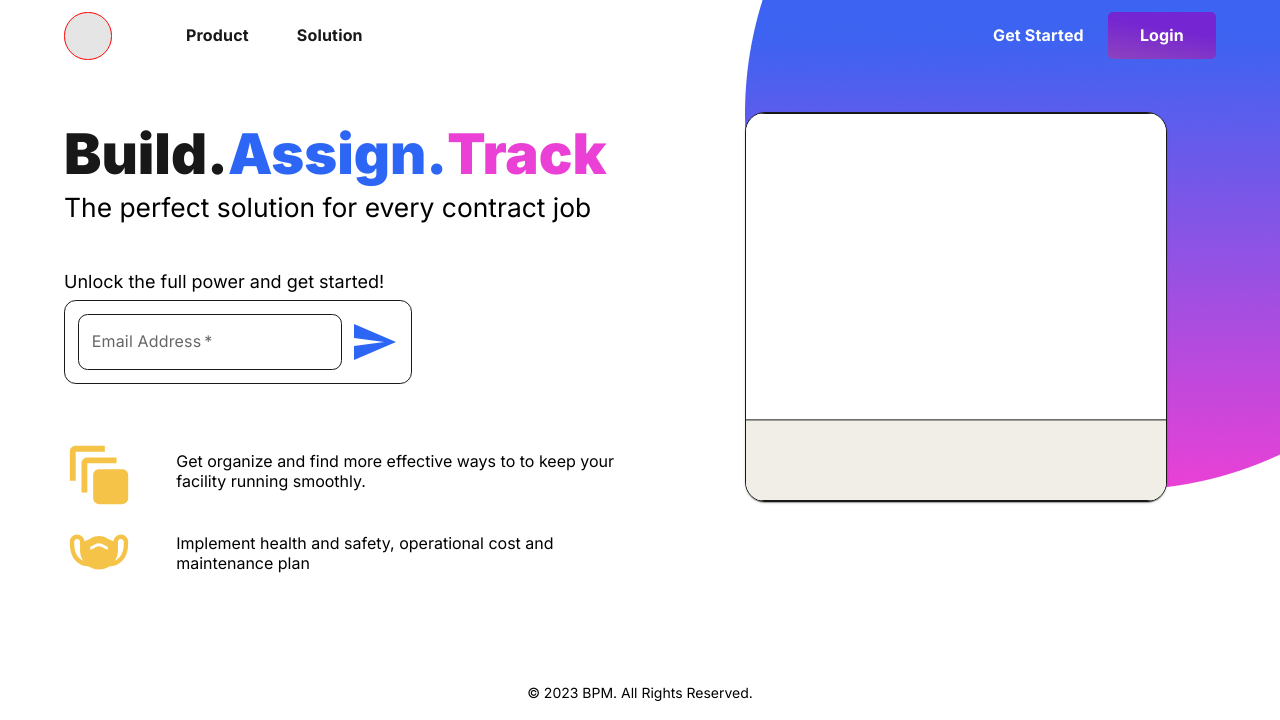
Test case: Homepage spec › Login button click and redirect to login page
Click the button with test id "login-link" at (1162, 36), box [1108,12,1216,59]
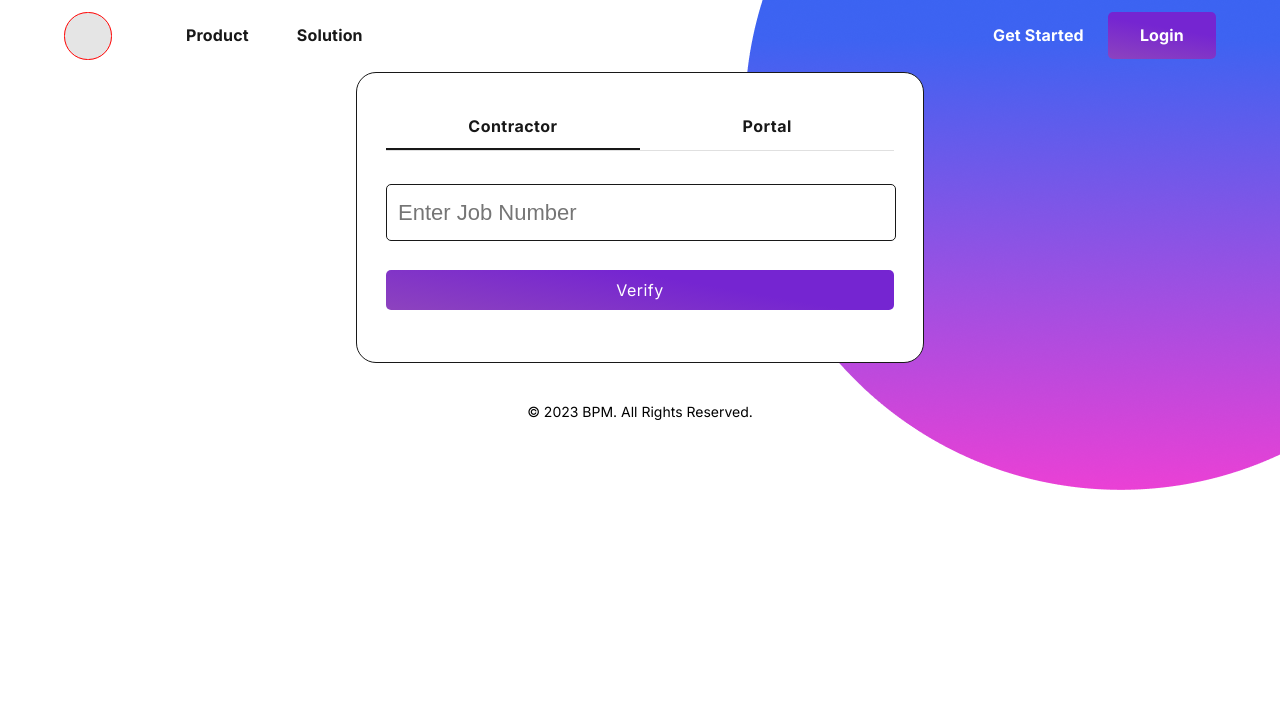
Expected: the tab "Contractor" is shown, [386,102,640,150]
Expected: the tab "Portal" is shown, [640,102,894,150]
